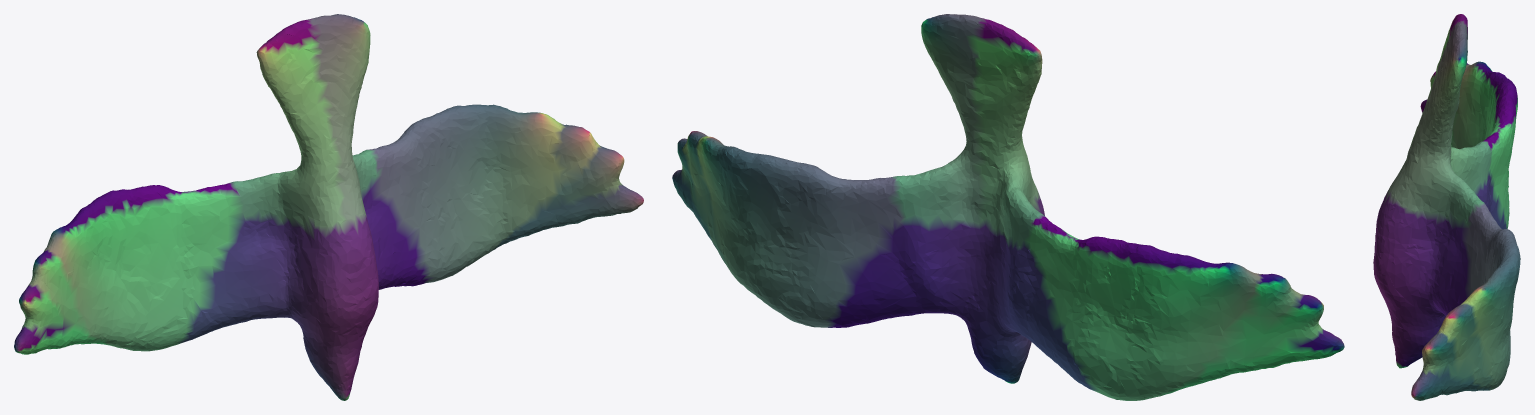
Rendered from bird1-10.off.obj.
The picture shows the model from 3 angles, left to right: view 1: azimuth 30°, elevation 25°; view 2: azimuth 150°, elevation 25°; view 3: azimuth 270°, elevation 25°; orthographic projection. The views are drawn at different scales.
Bounding box in the file's own units: 1.77 × 0.976 × 0.3779.
